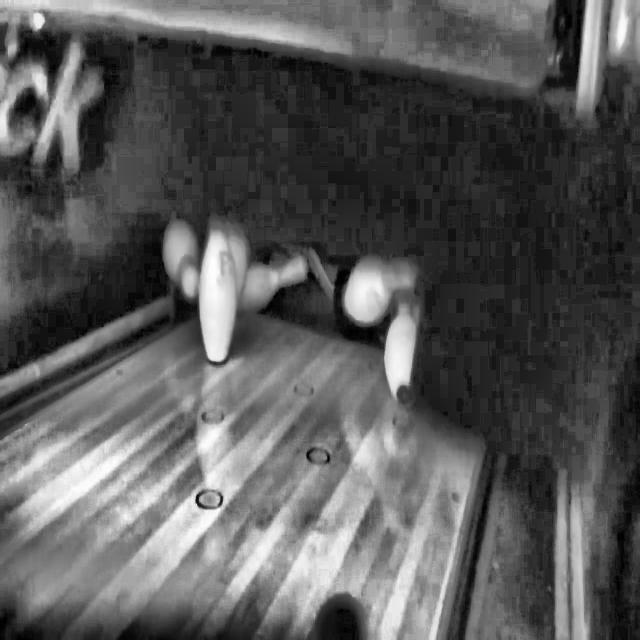bowling-pins: (198, 228, 236, 362)
sweep board: (0, 7, 640, 485)
